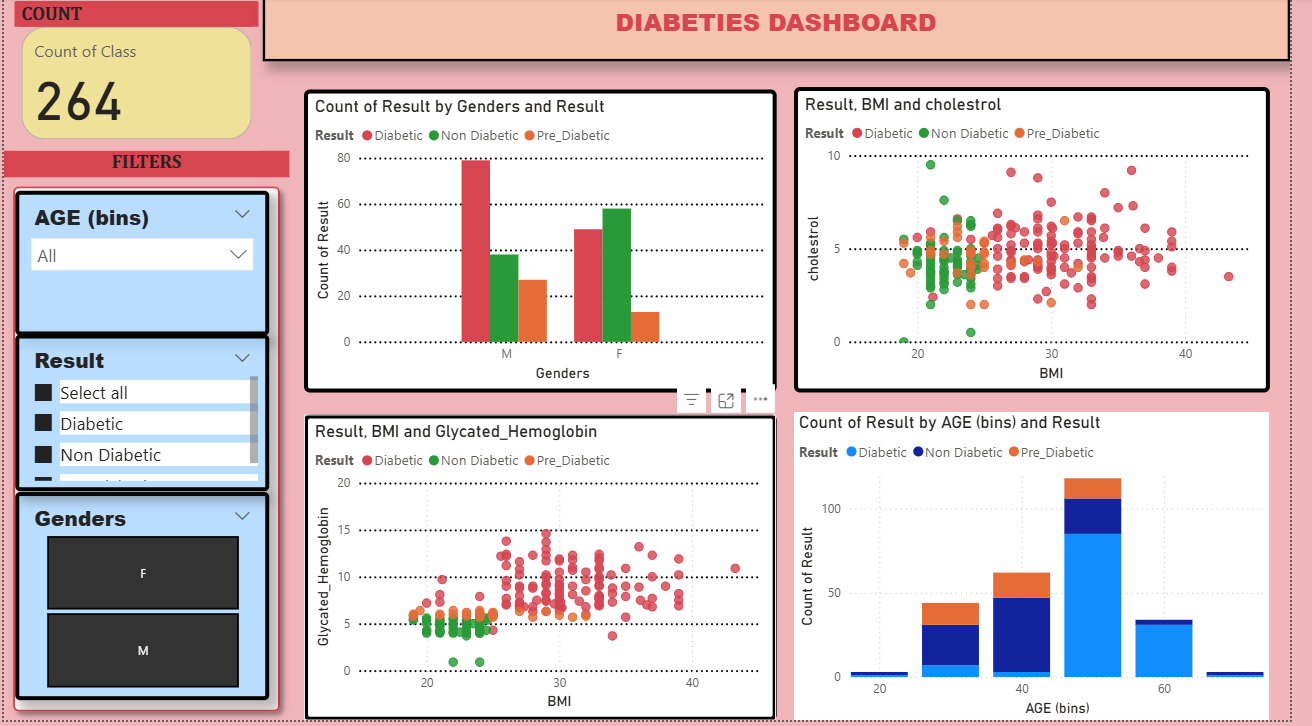

This screenshot's page, from the dashboard's own definition file:
{"tool":"powerbi","page":{"name":"DIABETIES","canvas":[1280,720],"ordinal":0},"visuals":[{"type":"textbox","box":[215.2,0,1064.8,93.3],"z":0},{"type":"shape","title":"FILTERS","box":[0,153,308.5,567.2],"z":1000},{"type":"clusteredColumnChart","fields":{"Category":["Multiclass Diabetes Dataset.Genders"],"Series":["Multiclass Diabetes Dataset.Result"],"Y":["CountNonNull(Multiclass Diabetes Dataset.Result)"]},"box":[335.9,93.3,470.2,302.3],"z":2000},{"type":"card","title":"COUNT","fields":{"Values":["CountNonNull(Dataset.Class)"]},"box":[0,2.5,215,91.2],"z":3000},{"type":"slicer","fields":{"Values":["Multiclass Diabetes Dataset.AGE (bins)"]},"box":[493.9,0,253.8,80.9],"z":4000},{"type":"slicer","fields":{"Values":["Multiclass Diabetes Dataset.Genders"]},"box":[1032.5,0,247.5,80.9],"z":5000},{"type":"slicer","fields":{"Values":["Multiclass Diabetes Dataset.Result"]},"box":[757.6,0,263.7,78.4],"z":6000},{"type":"columnChart","fields":{"Category":["Multiclass Diabetes Dataset.AGE (bins)"],"Series":["Multiclass Diabetes Dataset.Result"],"Y":["CountNonNull(Multiclass Diabetes Dataset.Result)"]},"box":[807.3,395.6,472.7,307.3],"z":7000},{"type":"scatterChart","fields":{"X":["Sum(Multiclass Diabetes Dataset.BMI)"],"Y":["Sum(Multiclass Diabetes Dataset.cholestrol)"],"Series":["Multiclass Diabetes Dataset.Result"]},"box":[806.1,93.3,473.9,304.8],"z":8000},{"type":"scatterChart","fields":{"X":["Sum(Multiclass Diabetes Dataset.BMI)"],"Y":["Sum(Multiclass Diabetes Dataset.Glycated_Hemoglobin)"],"Series":["Multiclass Diabetes Dataset.Result"]},"box":[335.9,395.6,470.2,304.8],"z":9000},{"type":"pageNavigator","box":[32.3,169.2,233.9,47.3],"z":10501}]}

Visuals, with their boxes in screenshot pixels (x1, y1, x2, y2), scaled from the page's 1280x720 canvas onto the 1312x726 screenshot:
textbox: 221 0 1311 94
"FILTERS" shape: 0 154 316 725
clusteredColumnChart - Multiclass Diabetes Dataset.Genders x Multiclass Diabetes Dataset.Result: 344 94 826 399
"COUNT" card: 0 3 220 94
slicer - Multiclass Diabetes Dataset.AGE (bins): 506 0 766 82
slicer - Multiclass Diabetes Dataset.Genders: 1058 0 1311 82
slicer - Multiclass Diabetes Dataset.Result: 777 0 1047 79
columnChart - Multiclass Diabetes Dataset.AGE (bins) x Multiclass Diabetes Dataset.Result: 827 399 1311 709
scatterChart - Sum(Multiclass Diabetes Dataset.BMI) x Sum(Multiclass Diabetes Dataset.cholestrol): 826 94 1311 401
scatterChart - Sum(Multiclass Diabetes Dataset.BMI) x Sum(Multiclass Diabetes Dataset.Glycated_Hemoglobin): 344 399 826 706
pageNavigator: 33 171 273 218
